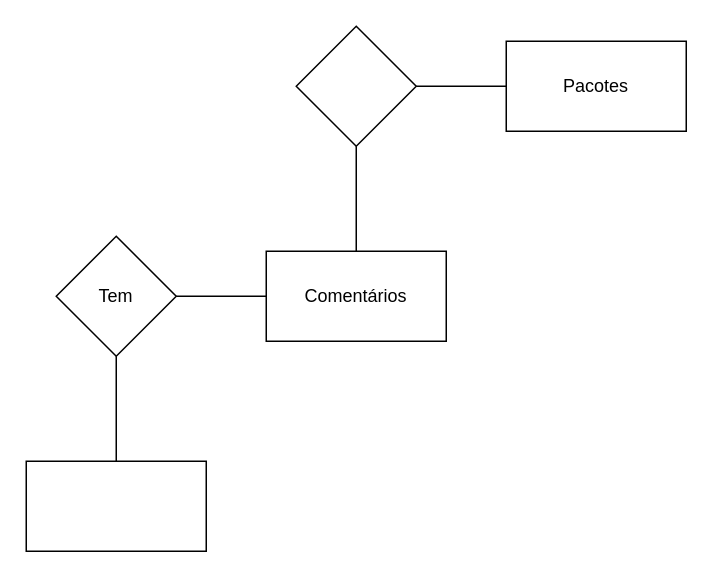
Image size: 713x578. Some labels were removed from this diagram. The centre of each missing label's shape, as x and y in pixels:
"Possuem" goes at point (355, 85).
"Usuarios" goes at point (115, 505).
